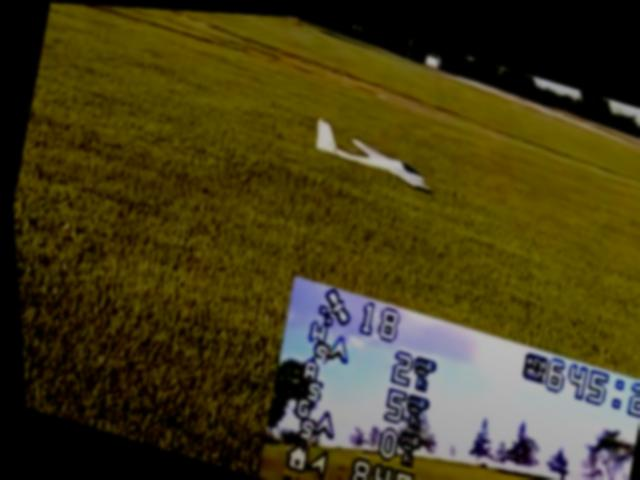iha: (307, 114, 439, 192)
